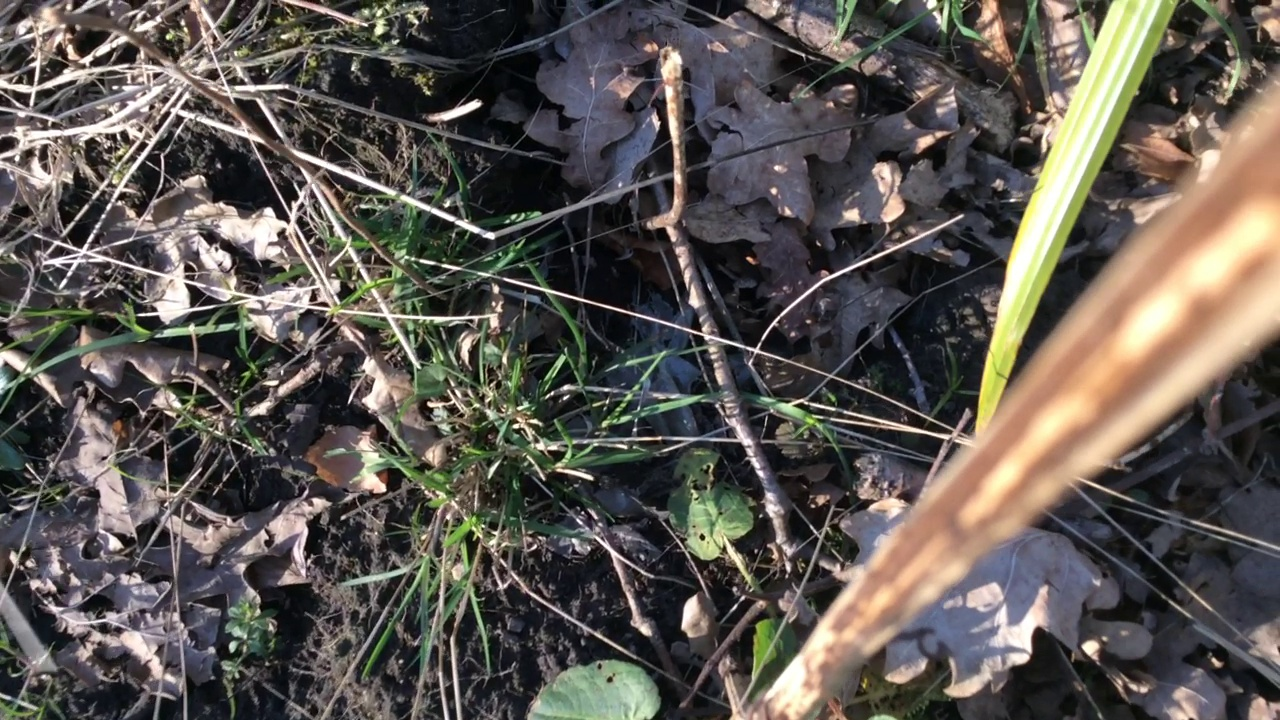rumex: (517, 444, 778, 720)
